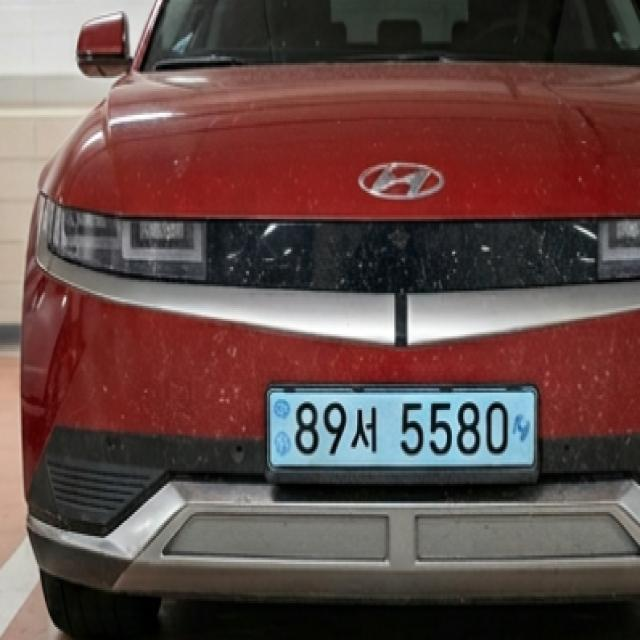car: (244, 364, 560, 515)
carev: (509, 391, 535, 467), (270, 390, 293, 470)
